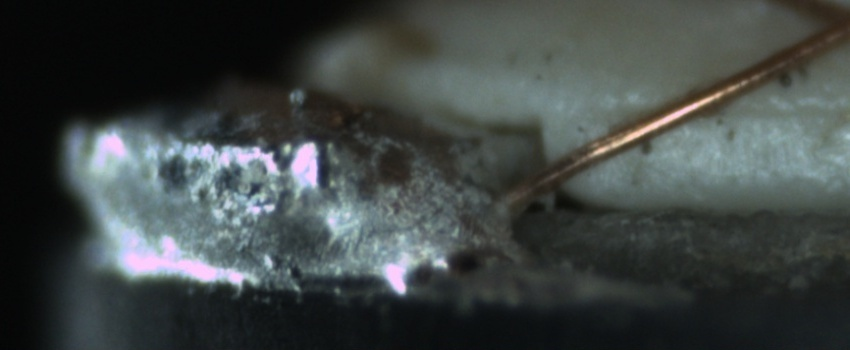DL: (688, 79, 850, 144)
